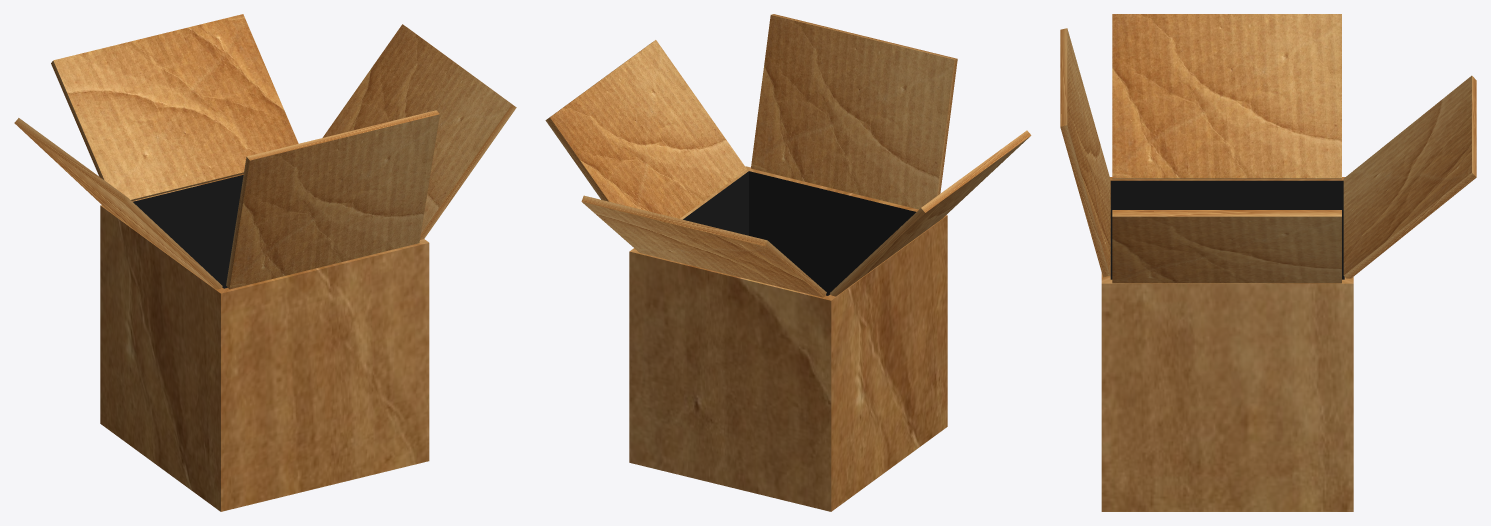
File: OffenerKarton.fbx
The picture shows the model from 3 angles, left to right: view 1: azimuth 30°, elevation 25°; view 2: azimuth 150°, elevation 25°; view 3: azimuth 270°, elevation 25°; orthographic projection. The views are drawn at different scales.
Visible parts, largest first — view 1: pCube7, pCube11, pCube10, pCube8, pCube9; view 2: pCube7, pCube10, pCube8, pCube11, pCube9; view 3: pCube7, pCube9, pCube8, pCube11, pCube10.
Part boxes in pixels (left/top/right/bottom): pCube7: left=100, top=174, right=429, bottom=511; pCube11: left=51, top=14, right=298, bottom=200; pCube10: left=226, top=110, right=439, bottom=289; pCube8: left=322, top=24, right=516, bottom=239; pCube9: left=14, top=118, right=222, bottom=289; pCube7: left=629, top=166, right=947, bottom=511; pCube10: left=751, top=14, right=957, bottom=209; pCube8: left=545, top=40, right=746, bottom=218; pCube11: left=581, top=195, right=826, bottom=297; pCube9: left=830, top=130, right=1031, bottom=296; pCube7: left=1101, top=177, right=1353, bottom=511; pCube9: left=1112, top=14, right=1341, bottom=179; pCube8: left=1112, top=210, right=1341, bottom=283; pCube11: left=1343, top=75, right=1476, bottom=278; pCube10: left=1060, top=28, right=1110, bottom=277.
Size of the model in its own units: 9.41 by 8.36 by 8.26.
Materials: 2 (1 with a texture image).
